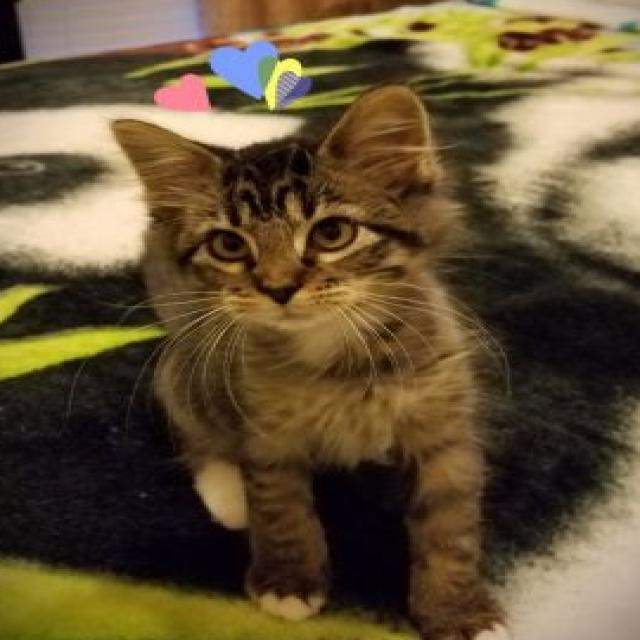Maine Coon: (106, 82, 516, 640)
